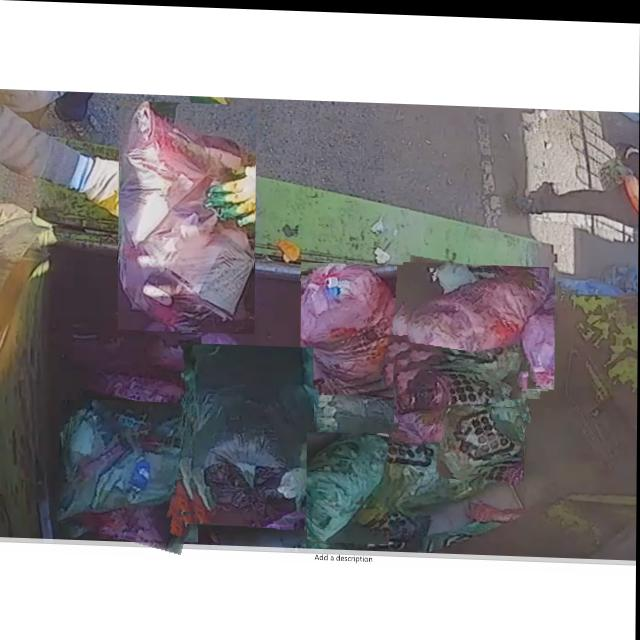general_trashbag: (191, 343, 314, 520), (59, 400, 208, 522), (308, 431, 386, 540), (395, 360, 527, 423), (365, 437, 482, 507), (443, 402, 524, 472)
other_trashbag: (121, 101, 254, 328), (407, 272, 555, 382), (302, 262, 428, 389), (89, 371, 184, 443)
